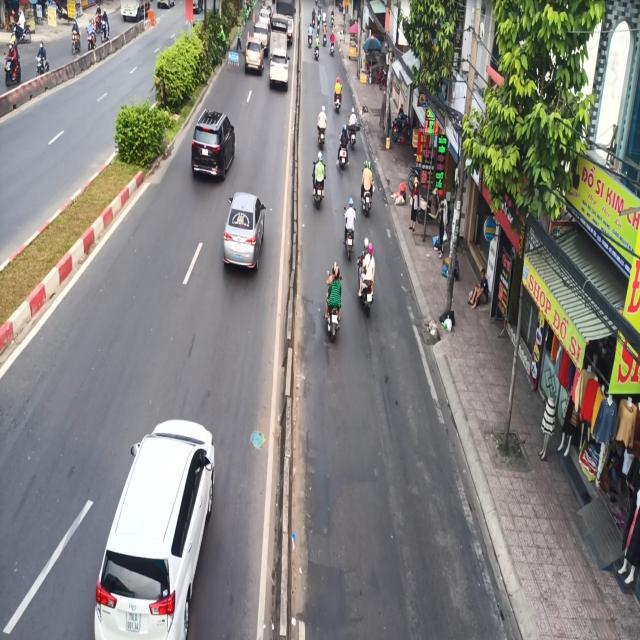car: (98, 411, 216, 640), (223, 183, 267, 277), (192, 105, 234, 190)
motor: (322, 256, 348, 338), (356, 230, 379, 316), (342, 198, 362, 262)
